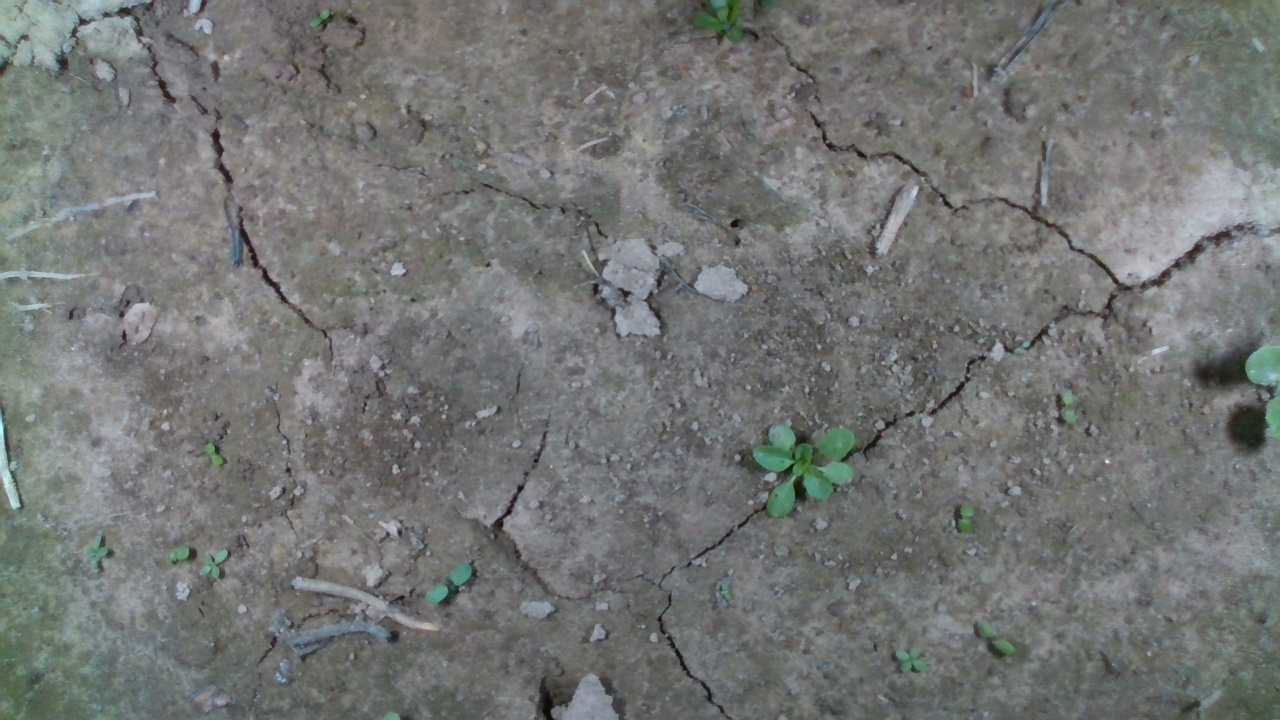weed: (424, 559, 473, 606), (974, 617, 1018, 656), (84, 531, 111, 574), (197, 547, 228, 583), (893, 645, 929, 673), (955, 501, 977, 535), (1060, 386, 1079, 425), (165, 543, 191, 564), (203, 442, 224, 468)
